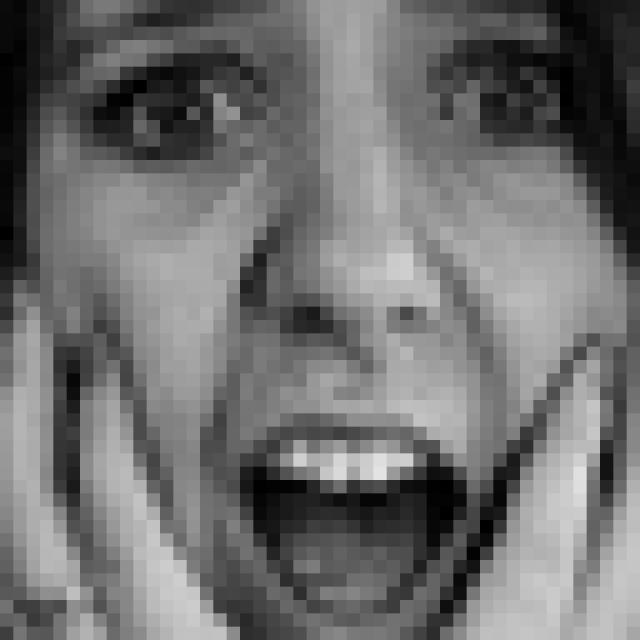fear: (46, 0, 609, 640)
